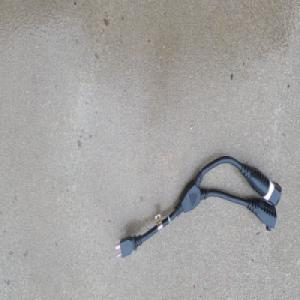Wire: (113, 155, 282, 261)
